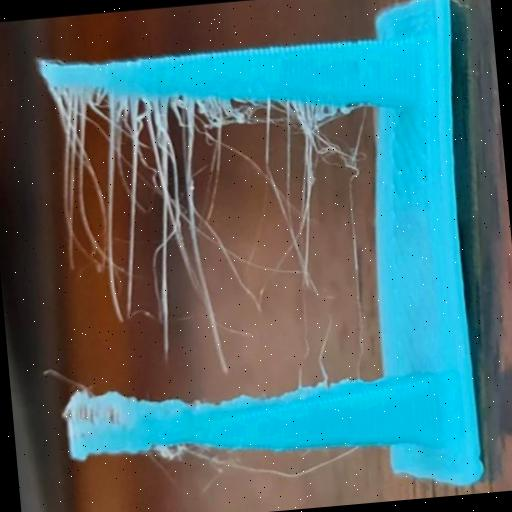stringing: (44, 63, 386, 386)
